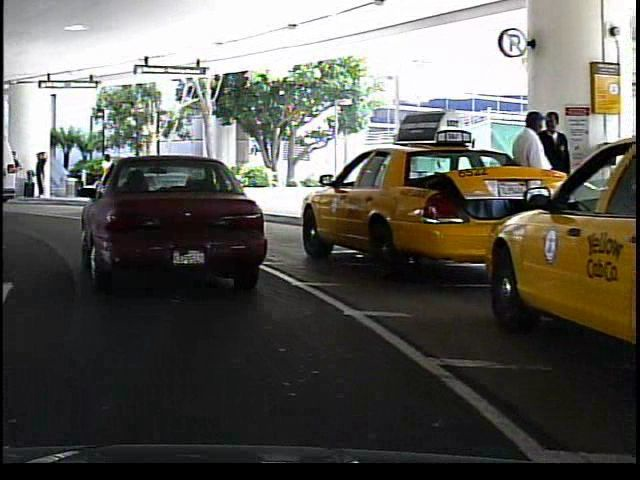person: (507, 107, 554, 253), (537, 107, 579, 247), (93, 150, 118, 196), (30, 144, 48, 201)
